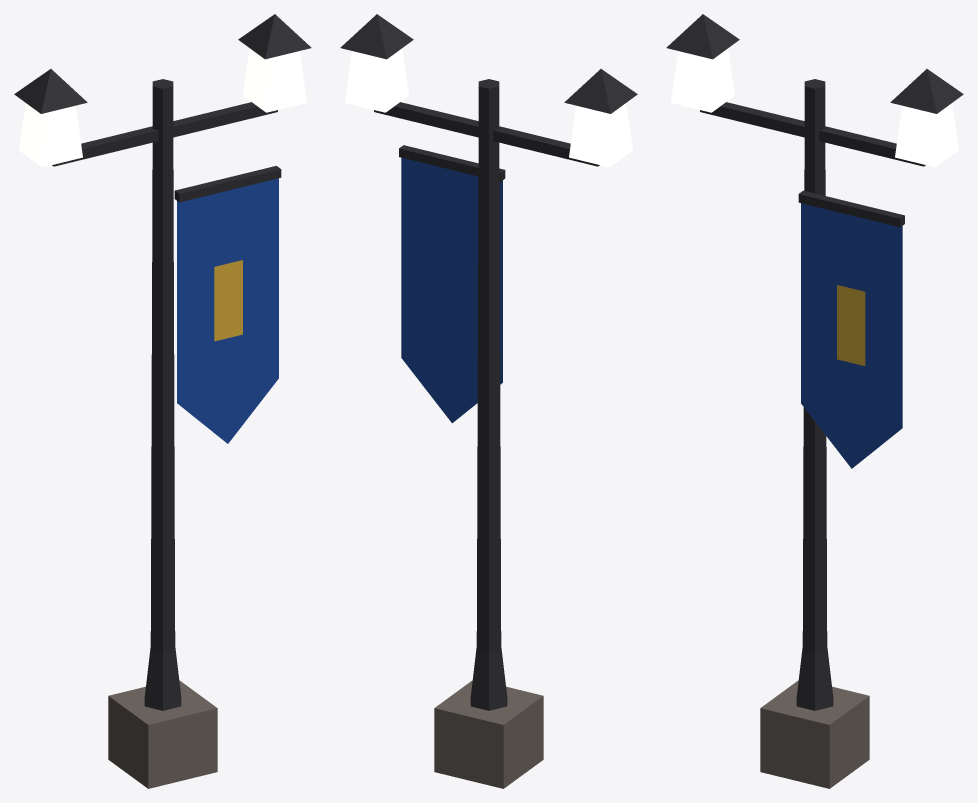
File: lamp_street.fbx
3 views of the same model, side by side, from view 1: azimuth 30°, elevation 25°; view 2: azimuth 150°, elevation 25°; view 3: azimuth 330°, elevation 25° (orthographic).
Visible parts, largest first — view 1: lamp_street; view 2: lamp_street; view 3: lamp_street.
Boxes of the visible parts, left/top/right/bottom form: lamp_street: left=14, top=14, right=311, bottom=788; lamp_street: left=340, top=14, right=637, bottom=788; lamp_street: left=666, top=14, right=963, bottom=788.
Size of the model in its own units: 1.33 by 3.4 by 0.34.
